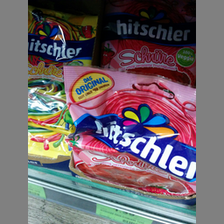candy: (61, 63, 197, 203)
